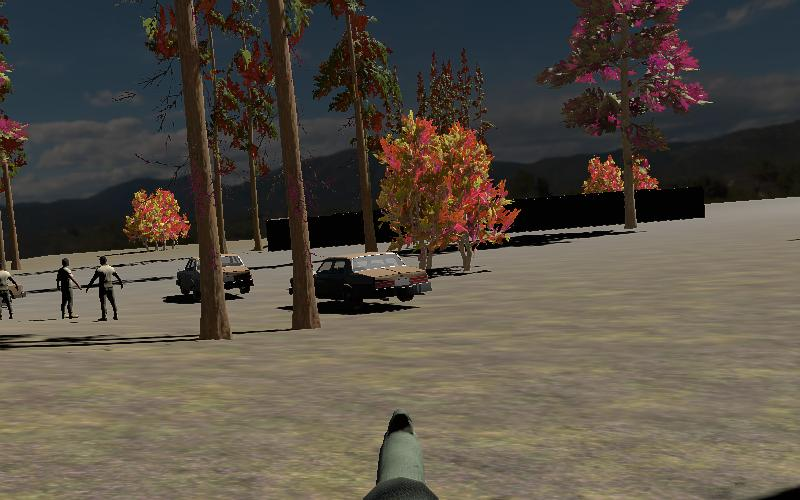car: (288, 249, 434, 311), (173, 248, 257, 300)
